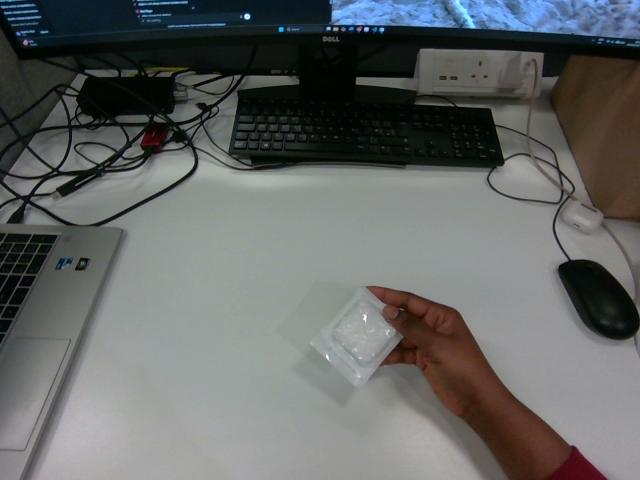gauze: (311, 287, 401, 386)
